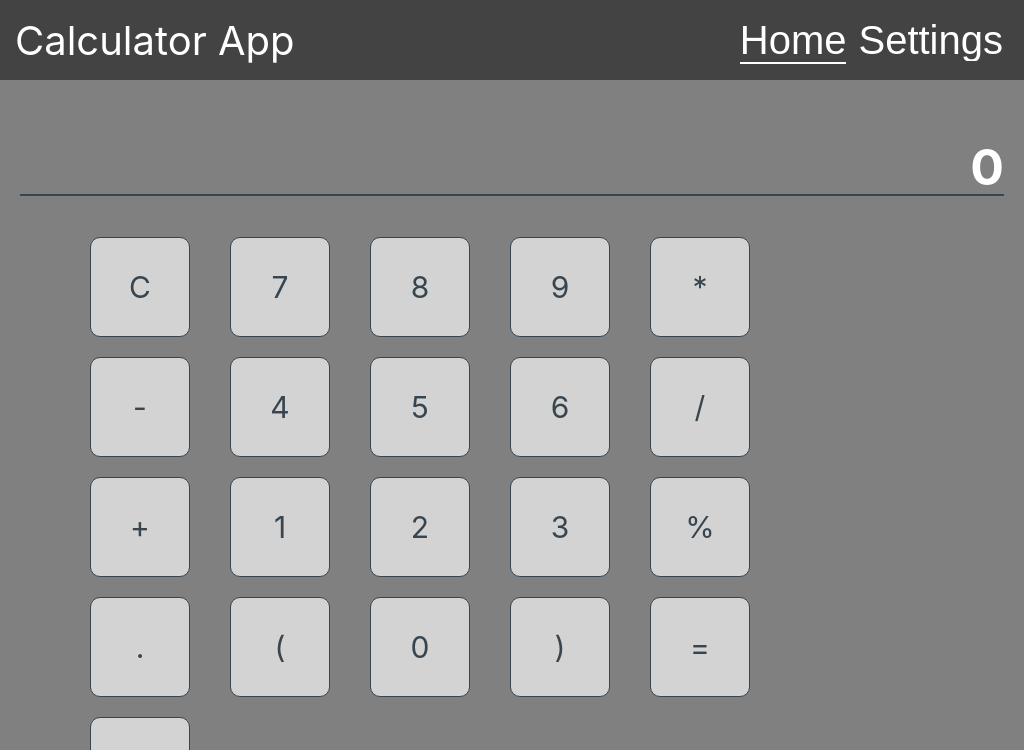
Test: calculator functionality › this should be ok as it is › can add numbers
This screenshot has width=1024, height=750.
Click the text "1". click: (280, 527)
box: top-left (274, 509), bottom-right (286, 545)
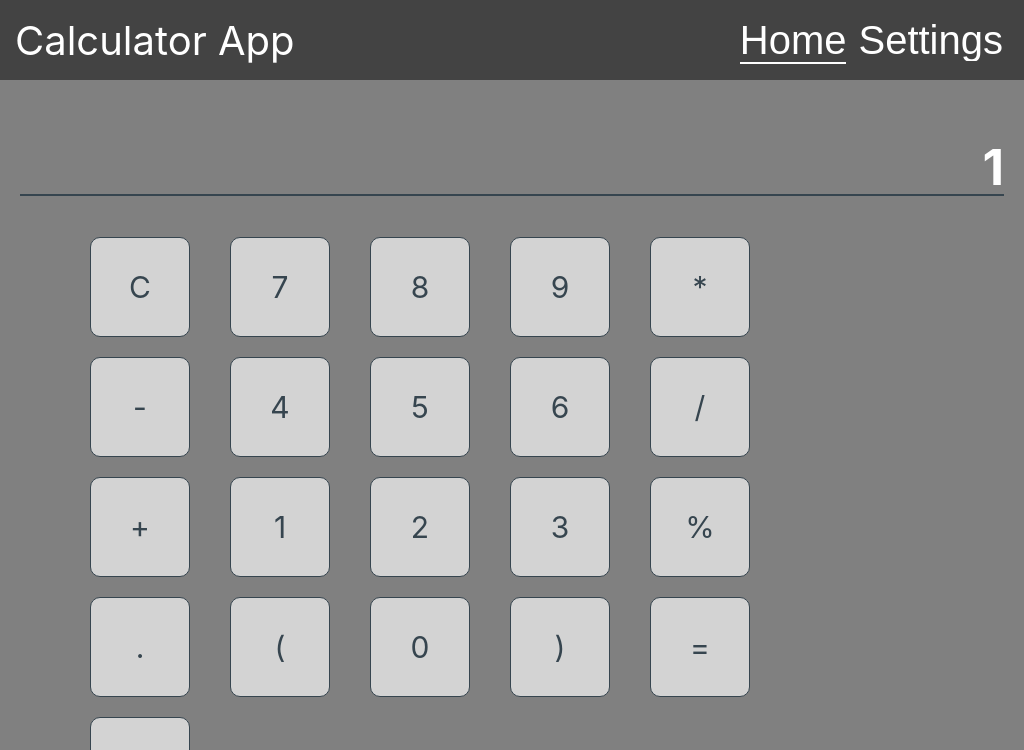
Click the text "+". click: (140, 527)
box: top-left (130, 509), bottom-right (150, 545)
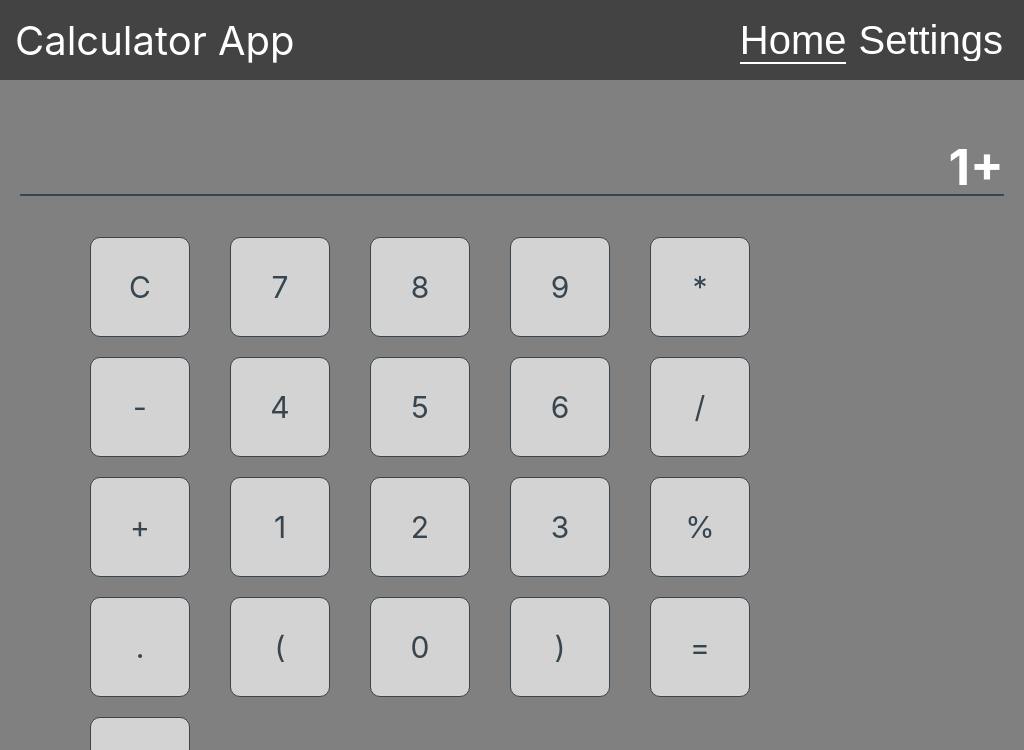
Click the text "2". click: (420, 527)
box: top-left (411, 509), bottom-right (429, 545)
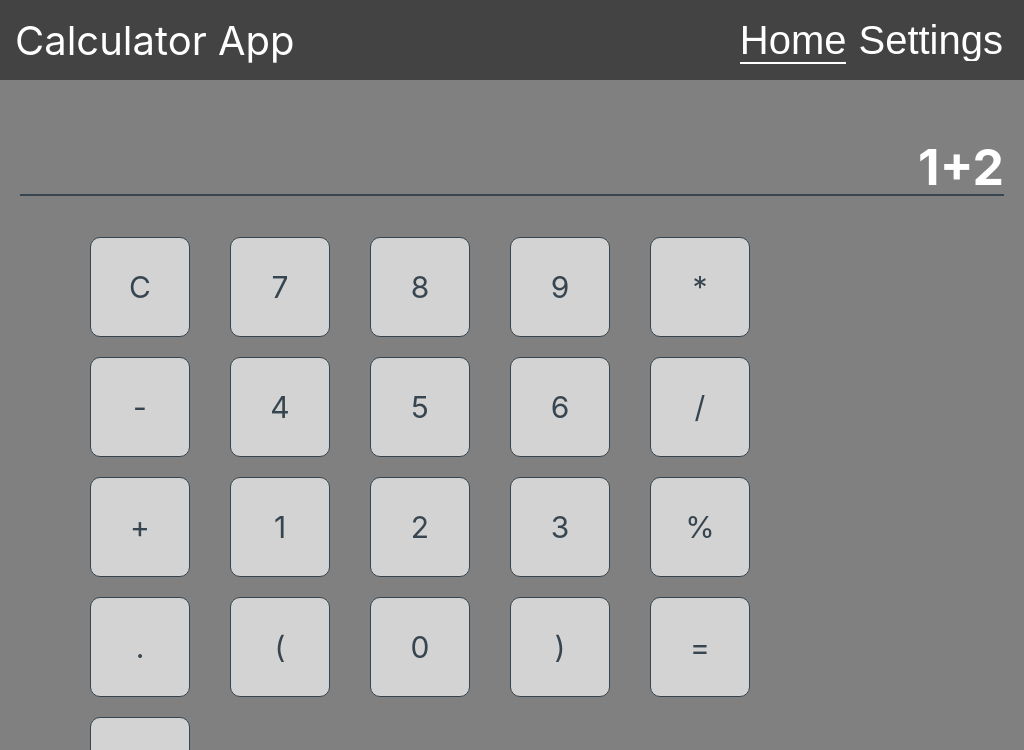
Click the text "=". click: (700, 647)
box: top-left (690, 629), bottom-right (710, 665)
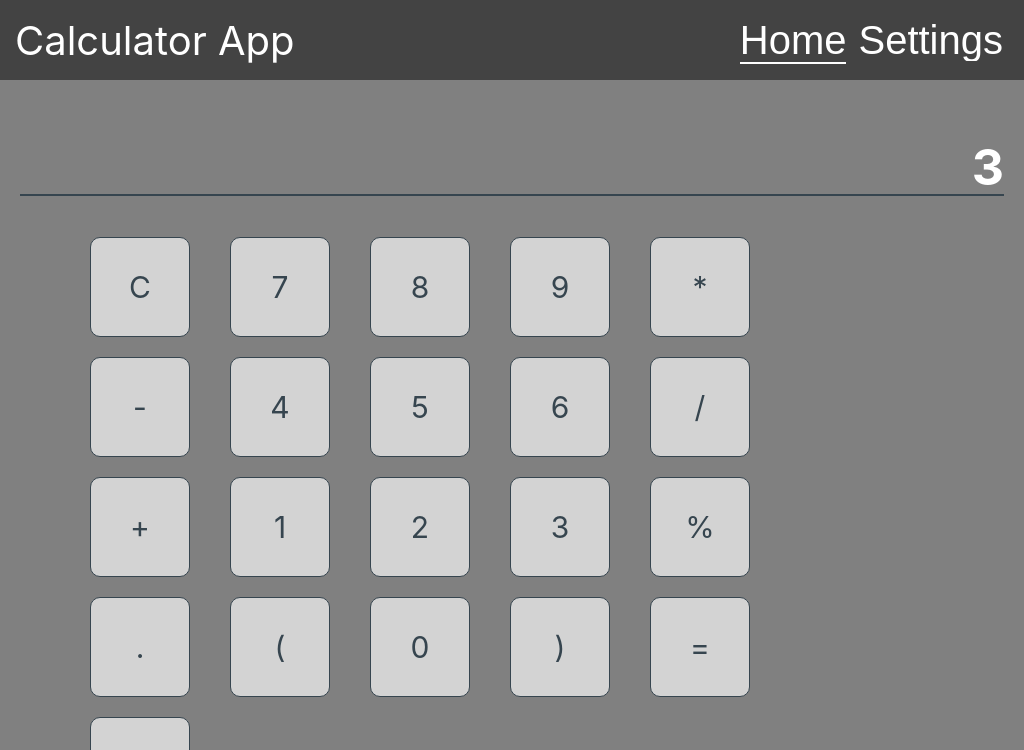
Expected: the heading with test id "display" reads "3", top-left (972, 137), bottom-right (1004, 197)
